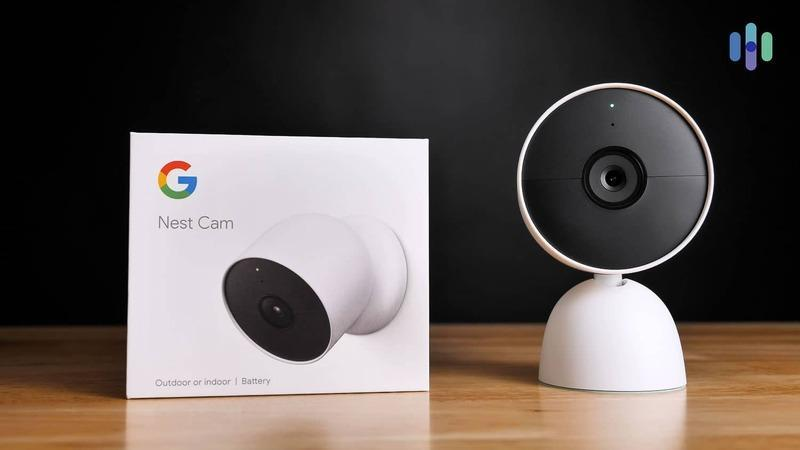nest: (515, 75, 719, 277)
